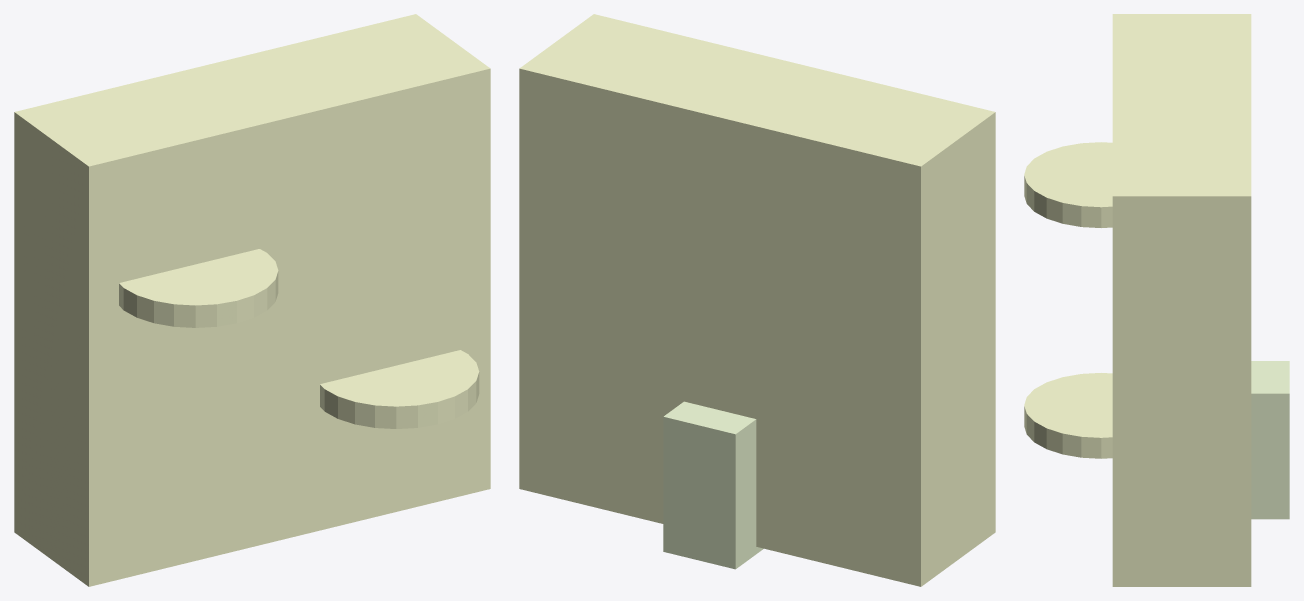
Rendered from signal_preemption_beacon_dual_lunar_diagonal.glb.
The picture shows the model from 3 angles, left to right: view 1: azimuth 30°, elevation 25°; view 2: azimuth 150°, elevation 25°; view 3: azimuth 270°, elevation 25°; orthographic projection. The views are drawn at different scales.
Parts seen in each view (by area): view 1: housing, lens_preempt_left, lens_preempt_right; view 2: housing, bracket; view 3: housing, lens_preempt_left, lens_preempt_right, bracket.
Boxes of the visible parts, x1,y1,x2,y2 form: housing: [14, 14, 490, 586]; lens_preempt_left: [119, 249, 278, 327]; lens_preempt_right: [320, 350, 479, 428]; housing: [519, 14, 995, 586]; bracket: [663, 401, 763, 569]; housing: [1112, 14, 1251, 586]; lens_preempt_left: [1024, 142, 1112, 227]; lens_preempt_right: [1024, 373, 1112, 458]; bracket: [1251, 361, 1289, 519].
Bounding box in the file's own units: 0.56 × 0.57 × 0.345.
